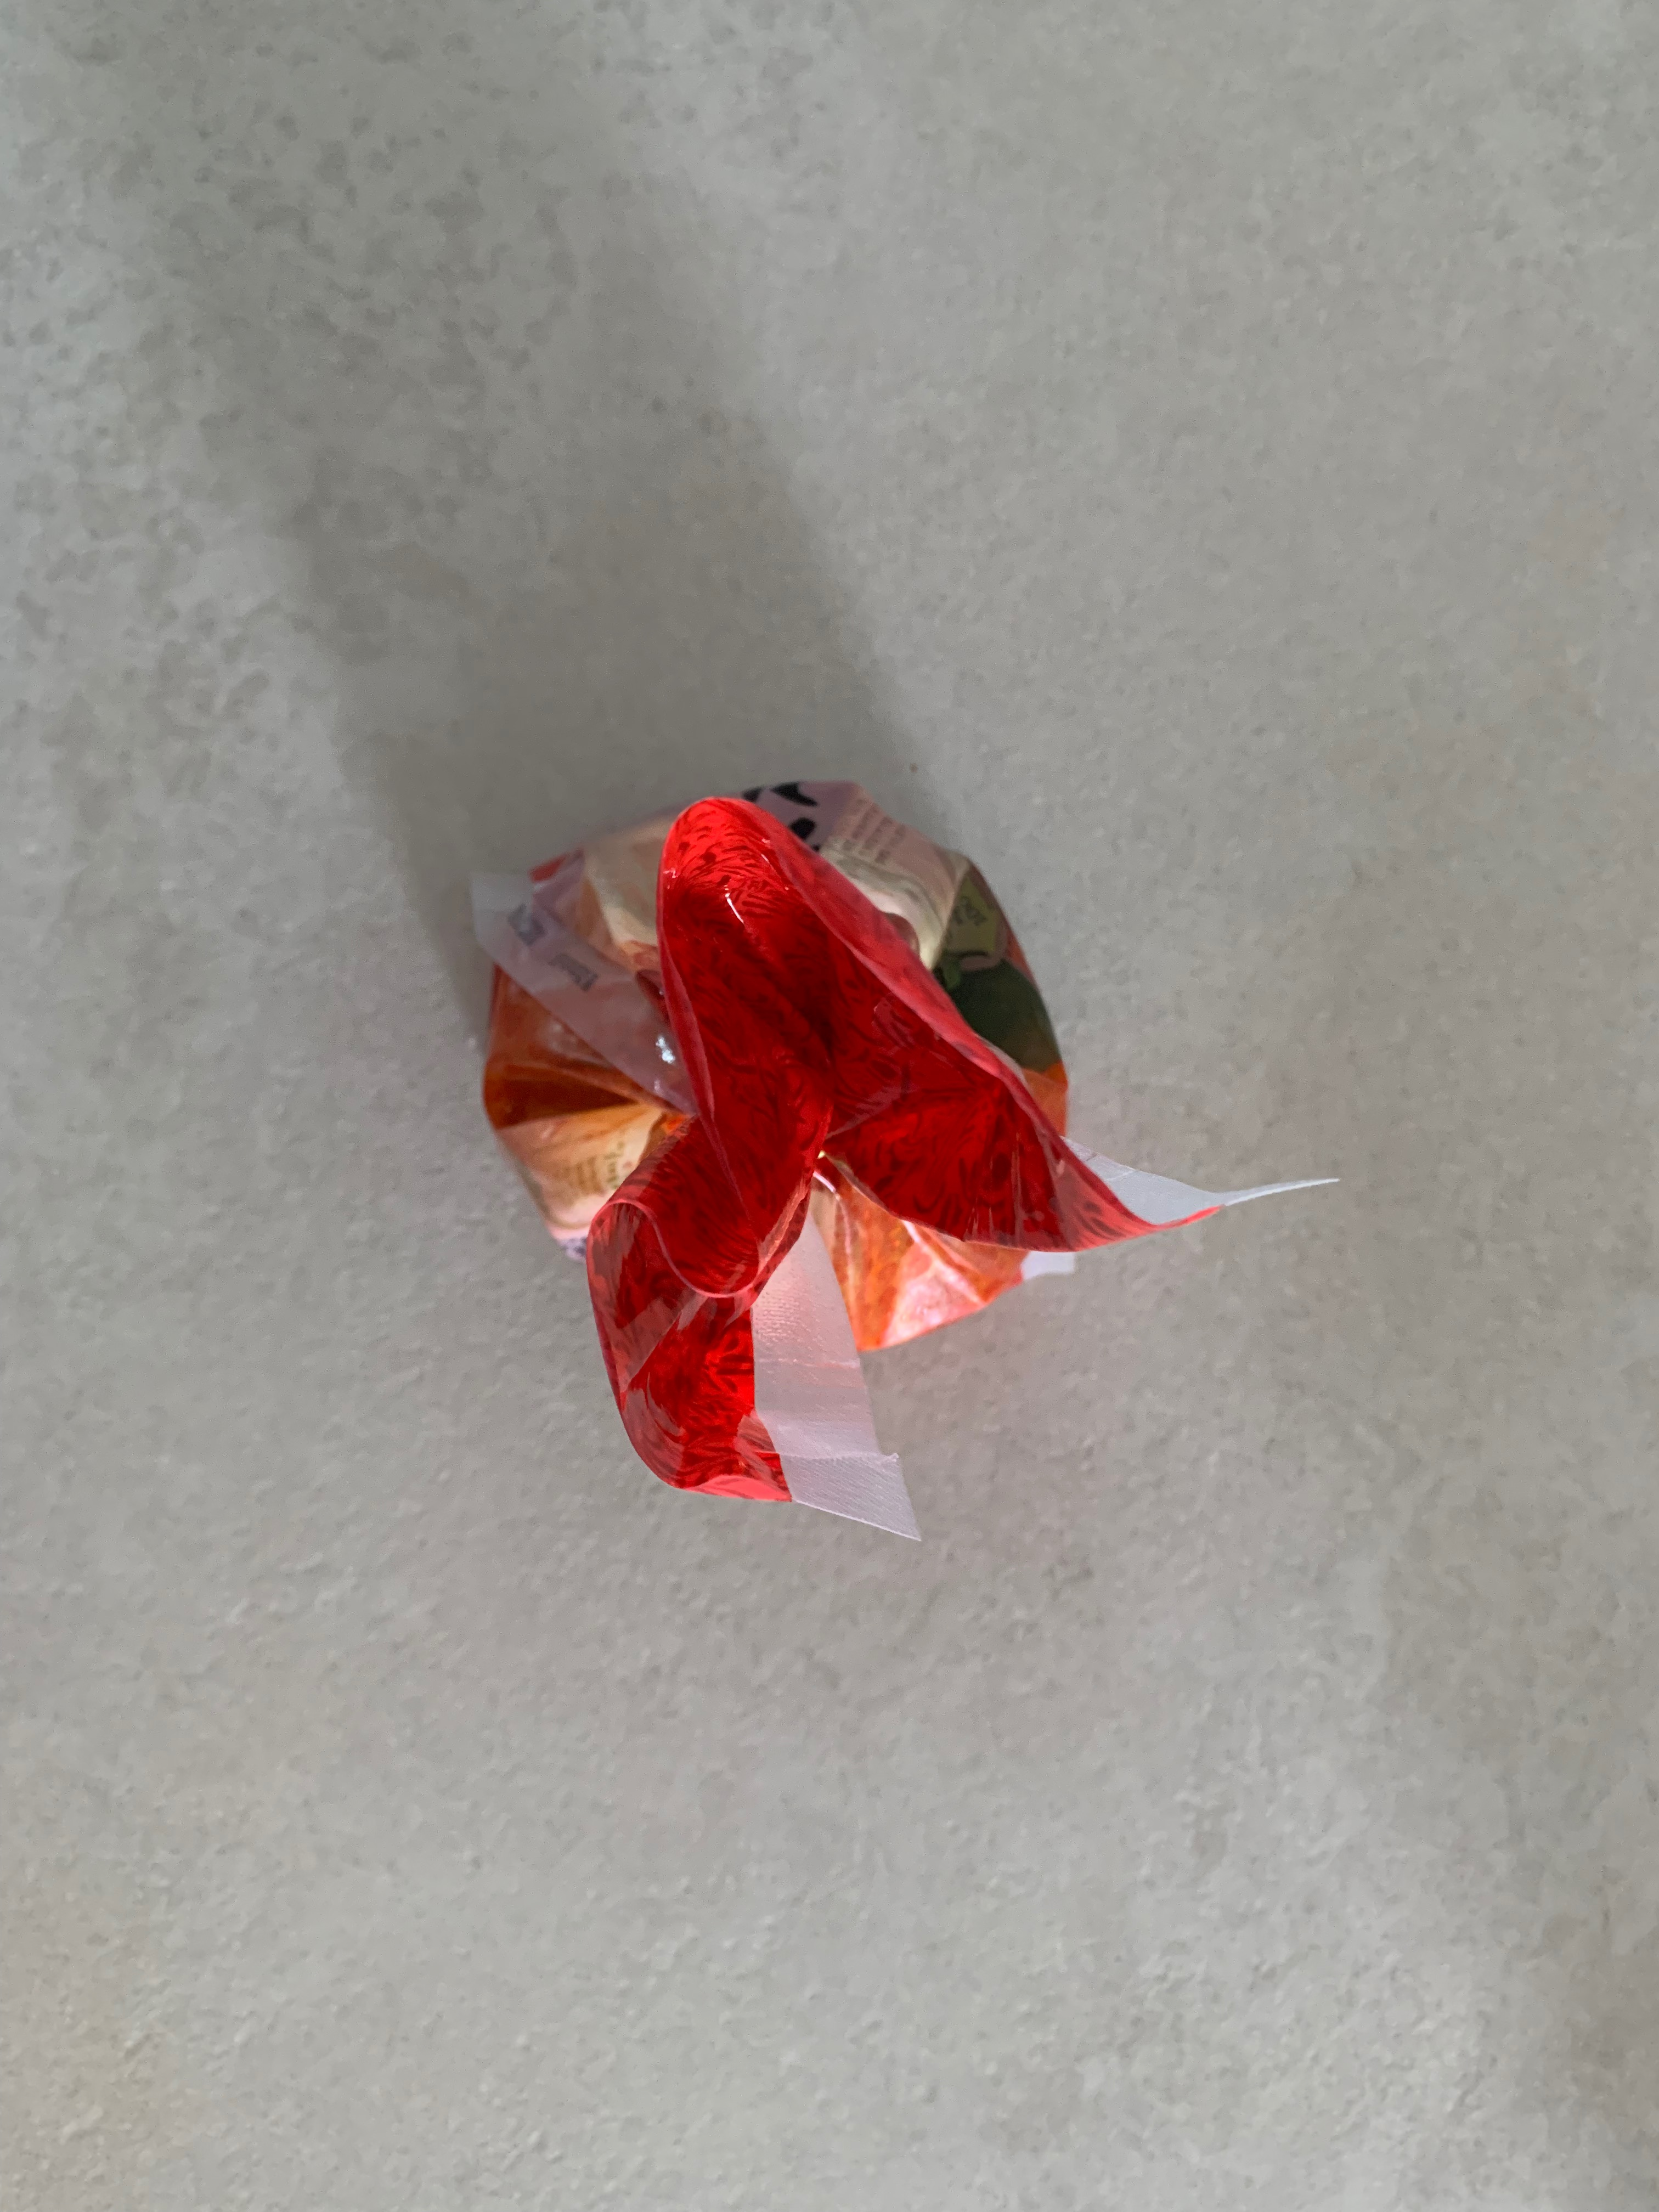kimchi: (486, 777, 1115, 1510)
